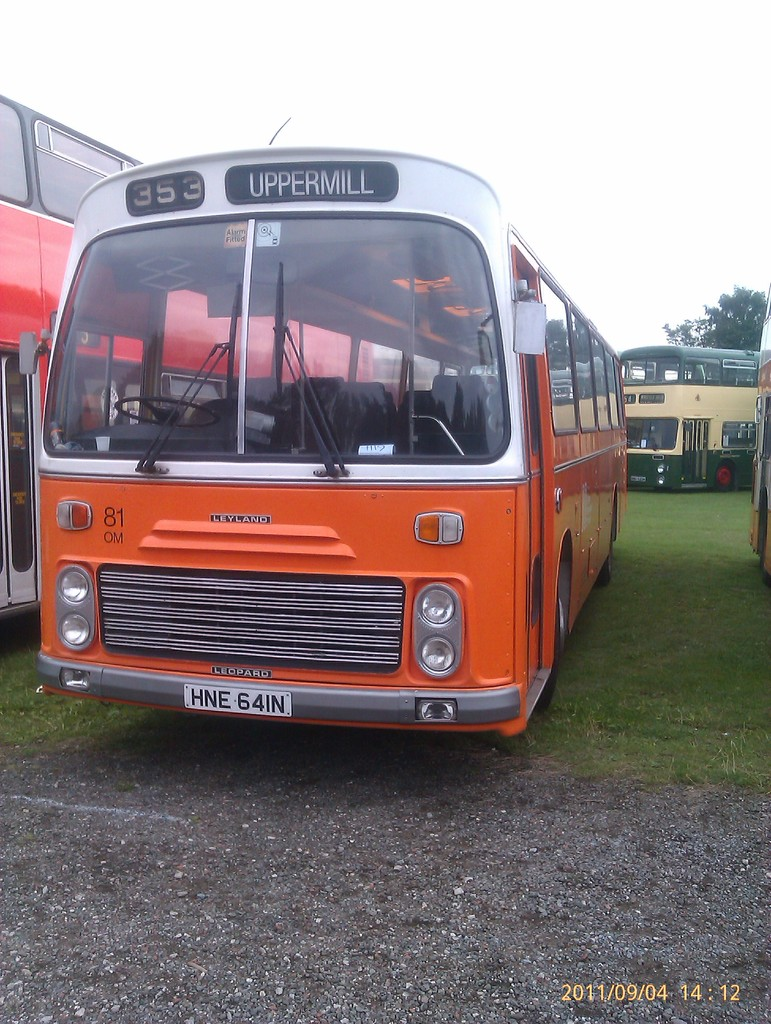Bus: (15, 135, 623, 723), (0, 63, 372, 607), (616, 343, 757, 488), (745, 285, 770, 567)
